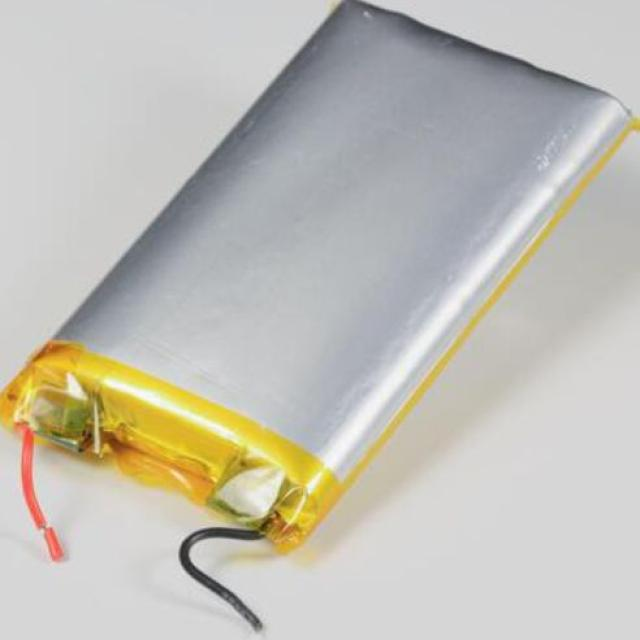electronic: (4, 0, 640, 597)
